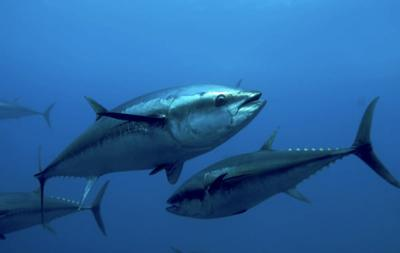Scombridae -Tunas-: (28, 80, 279, 231), (166, 95, 395, 221)
